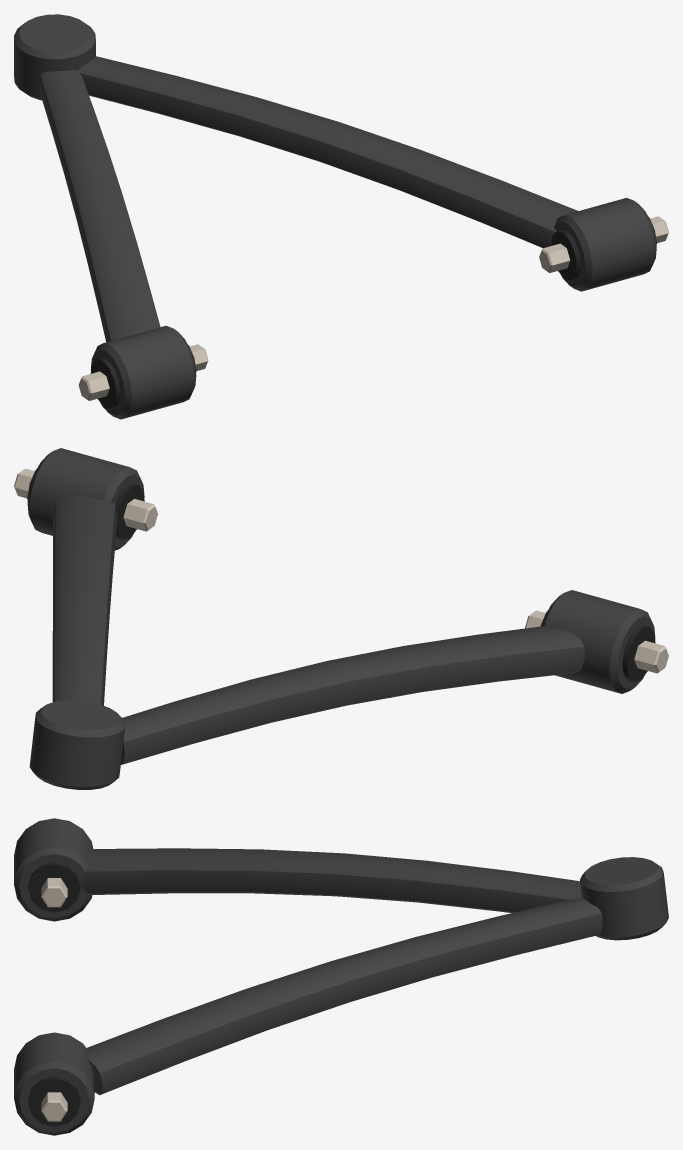
Rendered from SM_Susp_FL_UpperArm.fbx.
3 renders of one model, top to bottom at view 1: azimuth 30°, elevation 25°; view 2: azimuth 150°, elevation 25°; view 3: azimuth 270°, elevation 25°, orthographic. The views are drawn at different scales.
Parts seen in each view (by area): view 1: Export_Susp_FL_UpperArm; view 2: Export_Susp_FL_UpperArm; view 3: Export_Susp_FL_UpperArm.
Boxes of the visible parts, x1=… form: Export_Susp_FL_UpperArm: x1=14, y1=14, x2=668, y2=419; Export_Susp_FL_UpperArm: x1=14, y1=448, x2=668, y2=789; Export_Susp_FL_UpperArm: x1=14, y1=818, x2=668, y2=1135.
Size of the model in its own units: 0.3729 by 0.3903 by 0.0846.
